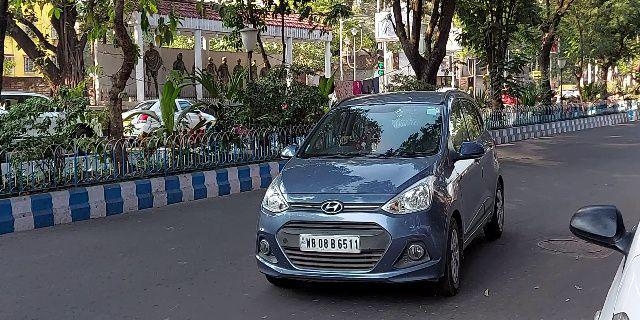Car: (250, 85, 510, 296)
